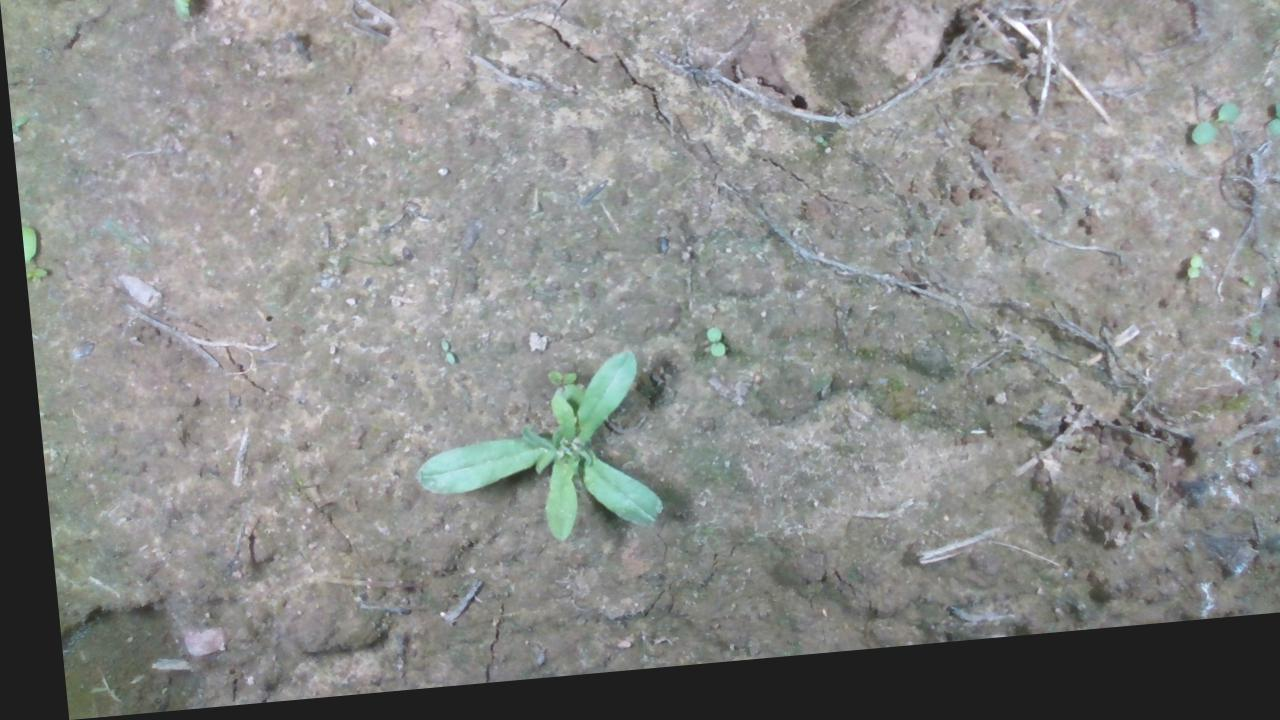weed: (1181, 123, 1240, 166), (694, 336, 719, 370), (1176, 275, 1197, 301)
